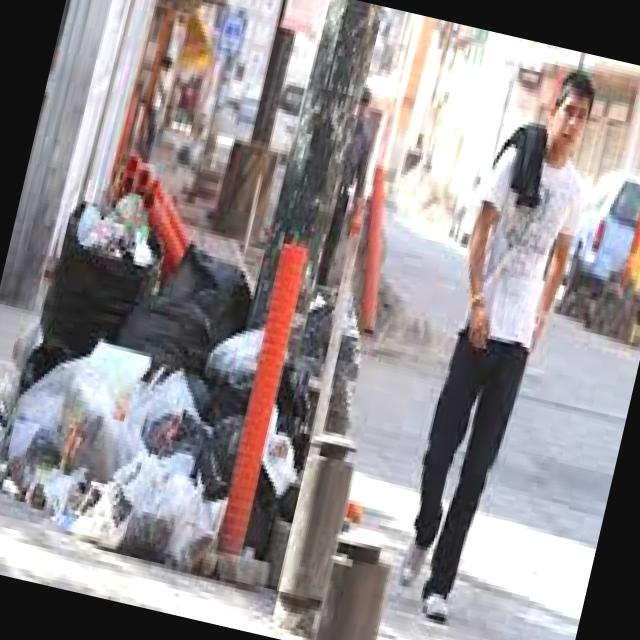garbage: (0, 139, 407, 598)
